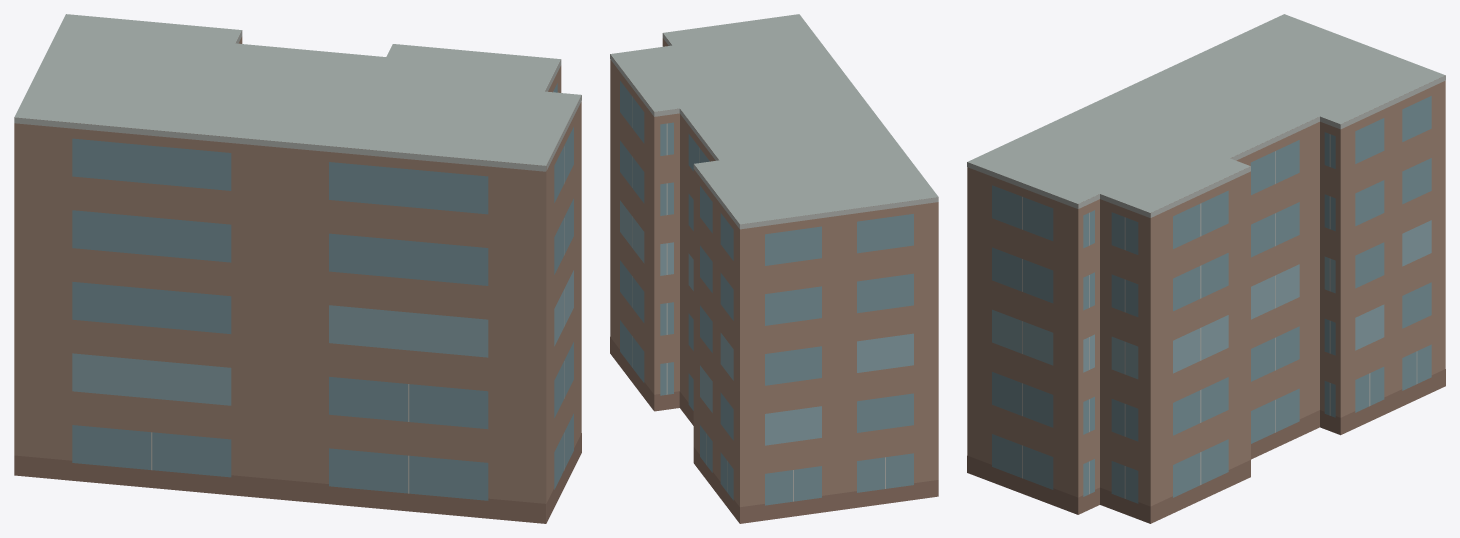
File: survey-upis-32720864.glb
3 views of the same model, side by side, from view 1: azimuth 30°, elevation 25°; view 2: azimuth 150°, elevation 25°; view 3: azimuth 270°, elevation 25° (orthographic). The views are drawn at different scales.
Visible parts, largest first — view 1: survey-upis-32720864.tmp; view 2: survey-upis-32720864.tmp; view 3: survey-upis-32720864.tmp.
Boxes of the visible parts, <box> form: survey-upis-32720864.tmp: <box>14,14,581,523</box>; survey-upis-32720864.tmp: <box>610,14,938,523</box>; survey-upis-32720864.tmp: <box>967,14,1445,523</box>.
Size of the model in its own units: 20.34 by 14.8 by 20.66.
